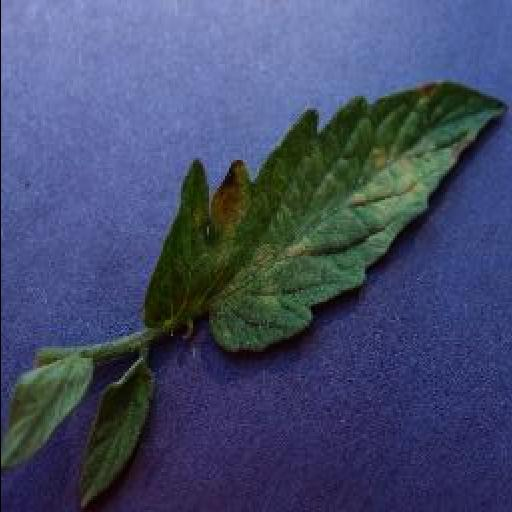disease_tomato: (143, 79, 505, 352)
